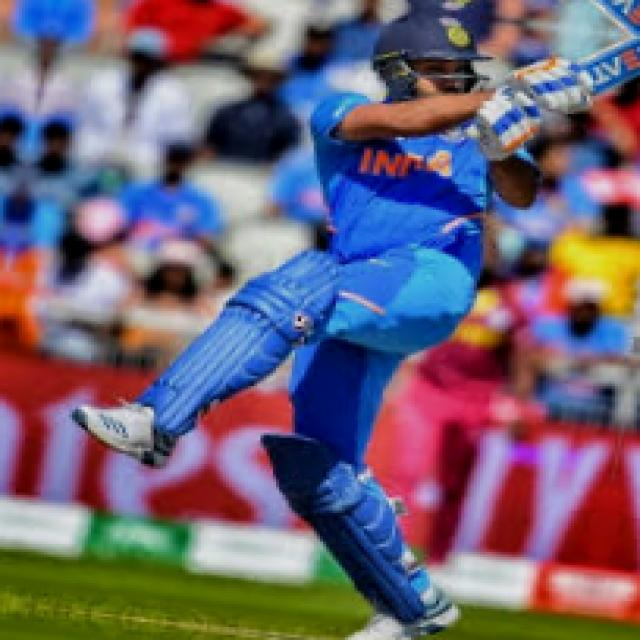toe: (635, 32, 640, 71)
